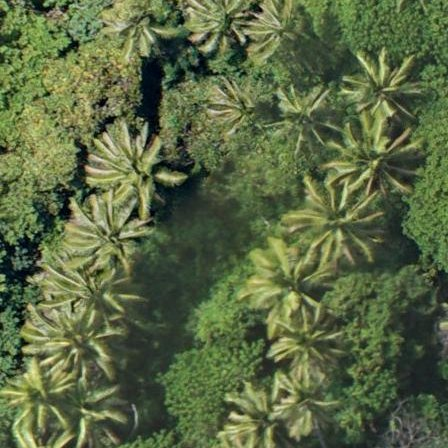palm_tree: (22, 301, 118, 382), (87, 121, 174, 209), (291, 184, 378, 266), (62, 198, 151, 277), (340, 46, 419, 131), (249, 242, 328, 319), (328, 125, 413, 195), (265, 370, 341, 433), (1, 363, 71, 429), (271, 313, 345, 373), (273, 84, 331, 149), (185, 1, 254, 55), (208, 76, 263, 133), (409, 1, 435, 2)
